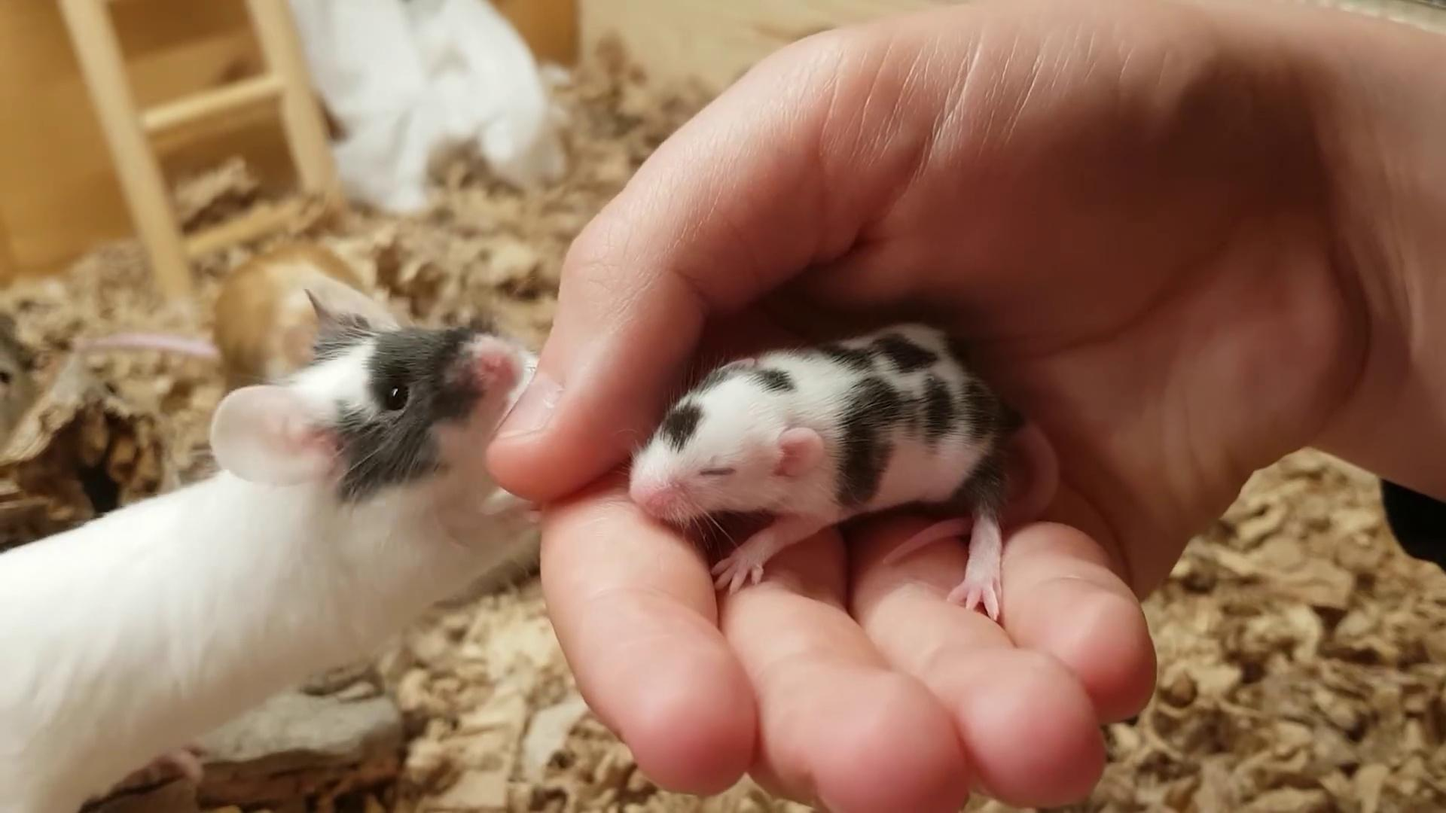rat: (0, 290, 540, 813), (630, 321, 1054, 614)
